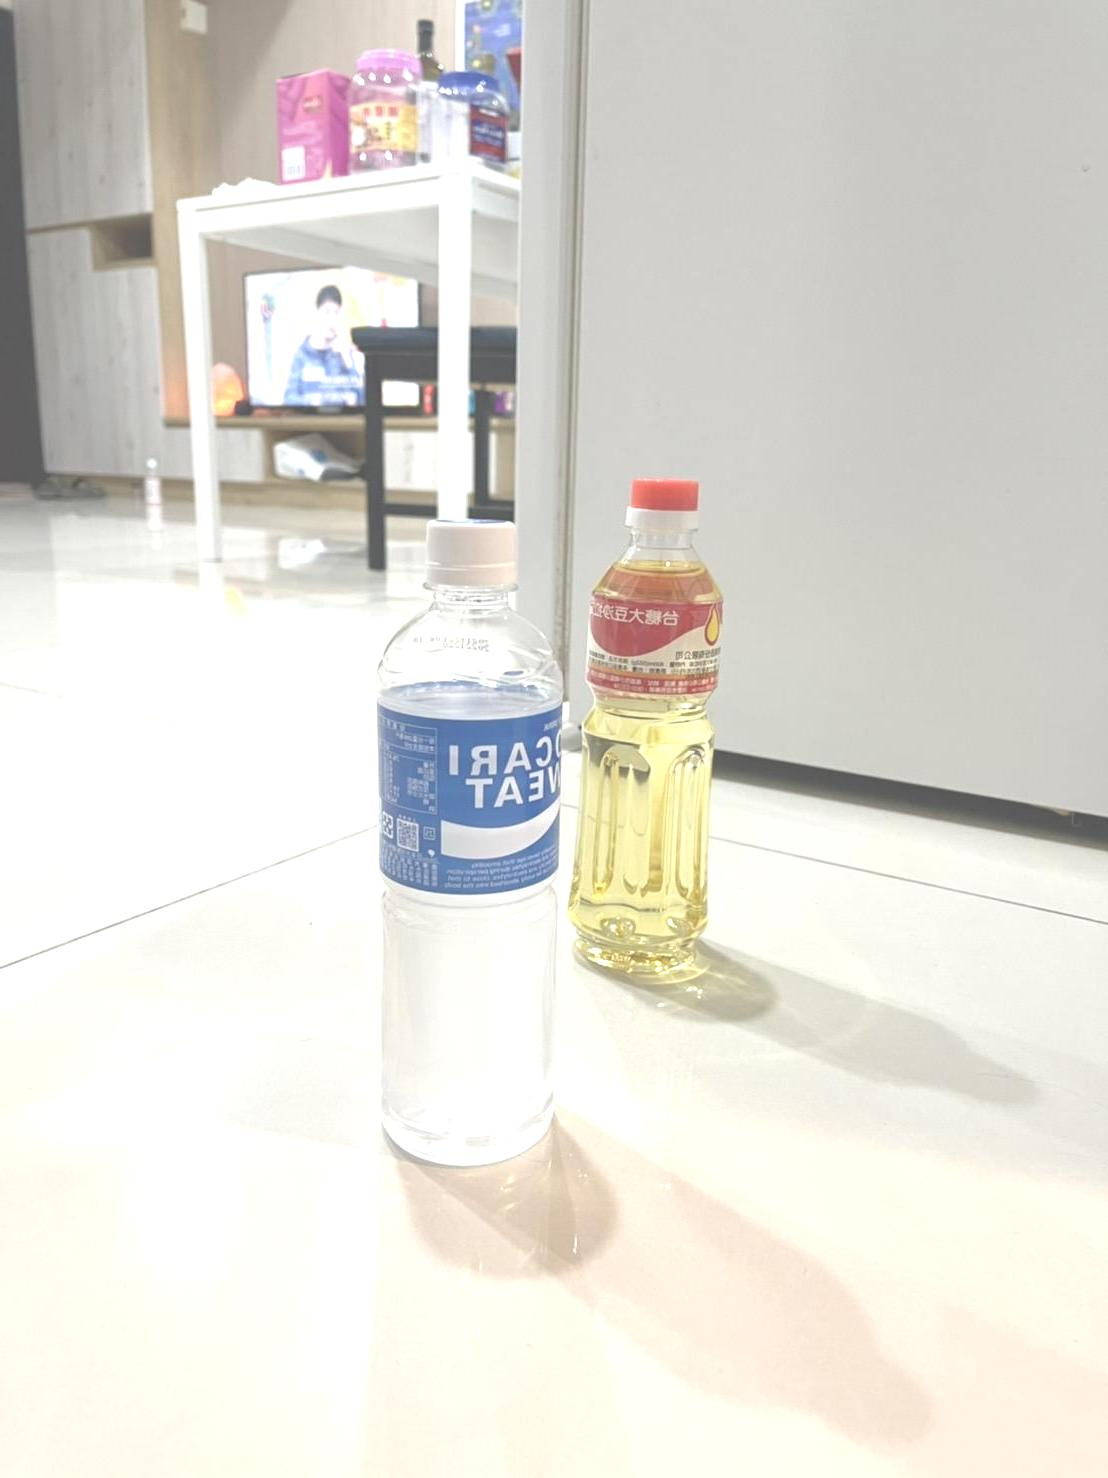bottle: (372, 519, 567, 1177), (573, 460, 731, 993)
